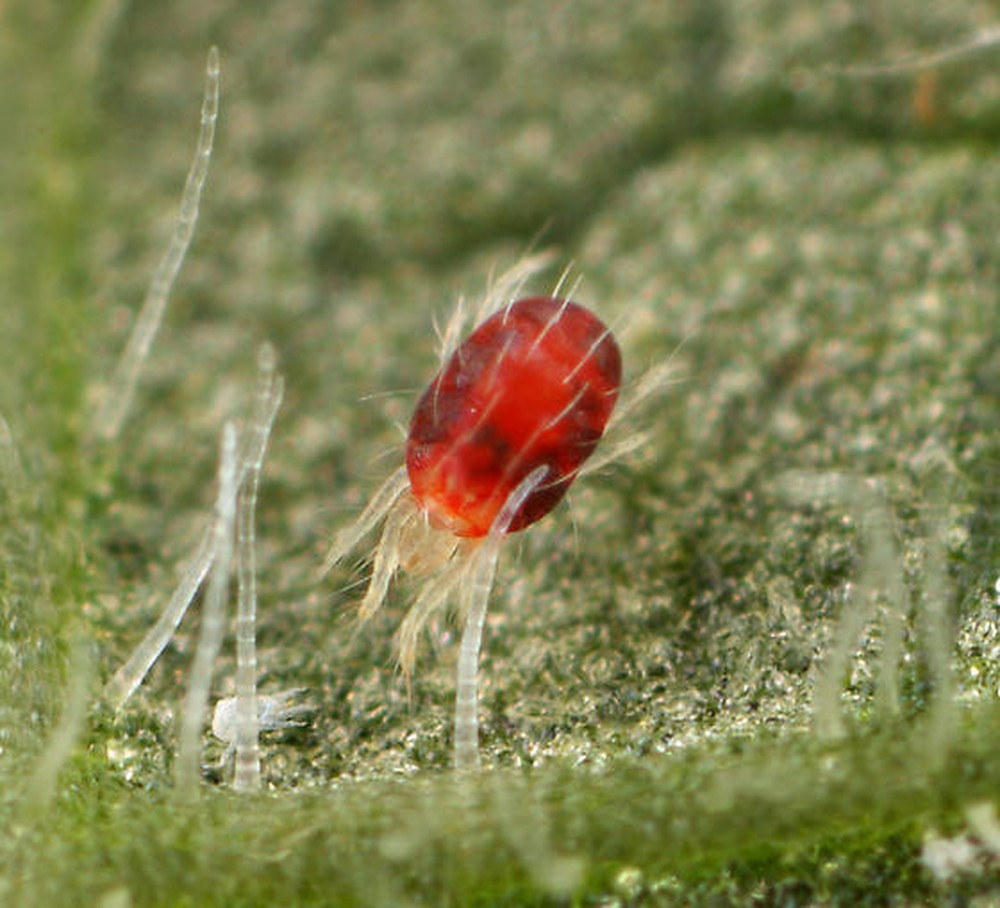Aracnido Rojo: (314, 278, 670, 662)
